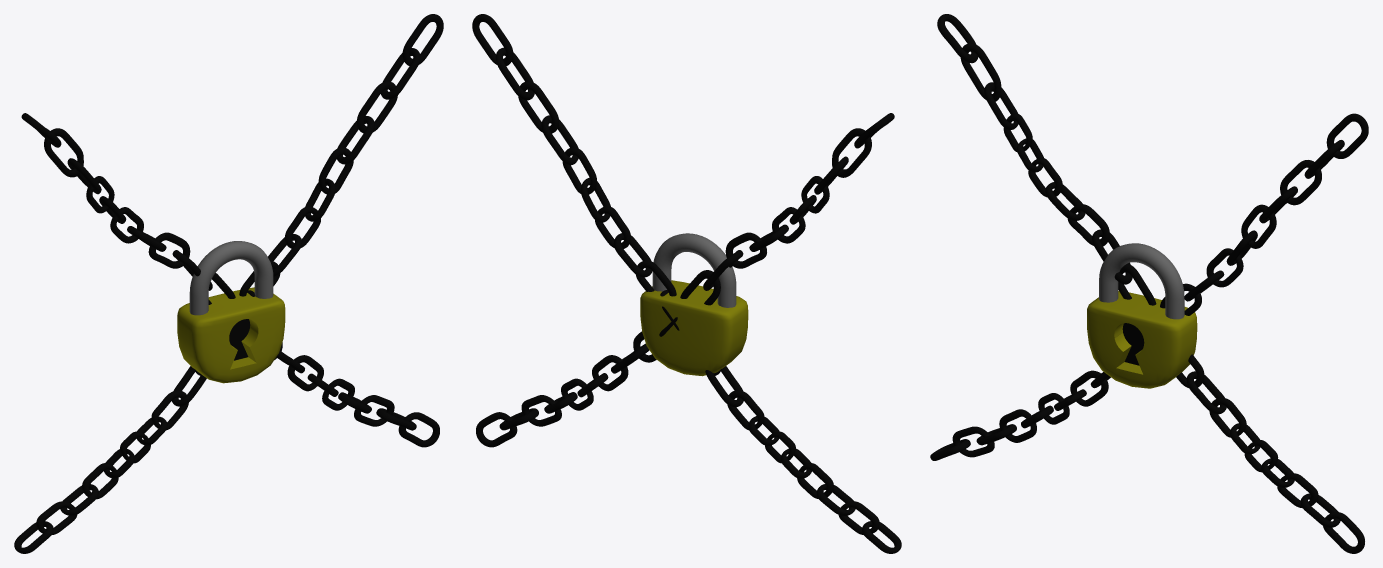
The model's file is chain.fbx.
The picture shows the model from 3 angles, left to right: view 1: azimuth 30°, elevation 25°; view 2: azimuth 150°, elevation 25°; view 3: azimuth 330°, elevation 25°; orthographic projection. The views are drawn at different scales.
Visible parts, largest first — view 1: chain_left, kilit, chain_right; view 2: chain_left, kilit, chain_right; view 3: chain_right, kilit, chain_left.
Boxes of the visible parts, bbox=[...] form: chain_left: bbox=[14, 14, 443, 553]; kilit: bbox=[177, 241, 285, 383]; chain_right: bbox=[21, 113, 439, 447]; chain_left: bbox=[472, 14, 901, 553]; kilit: bbox=[640, 233, 748, 376]; chain_right: bbox=[476, 113, 894, 447]; chain_right: bbox=[937, 14, 1364, 553]; kilit: bbox=[1087, 243, 1197, 388]; chain_left: bbox=[930, 113, 1368, 460].
Size of the model in its own units: 198 by 194 by 20.08.
